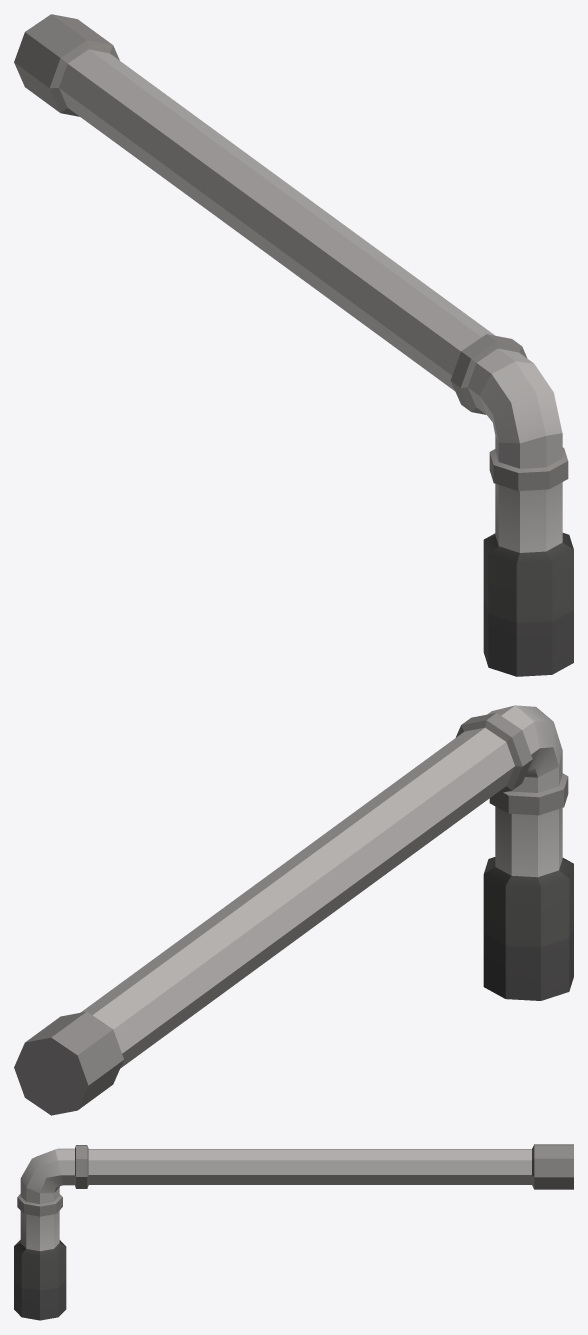
File: SM_Bld_GasTower_Pipe_02.fbx
3 views of the same model, one above another, from view 1: azimuth 30°, elevation 25°; view 2: azimuth 150°, elevation 25°; view 3: azimuth 270°, elevation 25° (orthographic). The views are drawn at different scales.
Visible parts, largest first — view 1: SM_Bld_GasTower_Pipe_02; view 2: SM_Bld_GasTower_Pipe_02; view 3: SM_Bld_GasTower_Pipe_02.
Part boxes in pixels (x1,y1,x2,y2): SM_Bld_GasTower_Pipe_02: (14,14,573,676); SM_Bld_GasTower_Pipe_02: (14,705,573,1115); SM_Bld_GasTower_Pipe_02: (14,1144,573,1320).
Size of the model in its own units: 130 by 451 by 1393.
